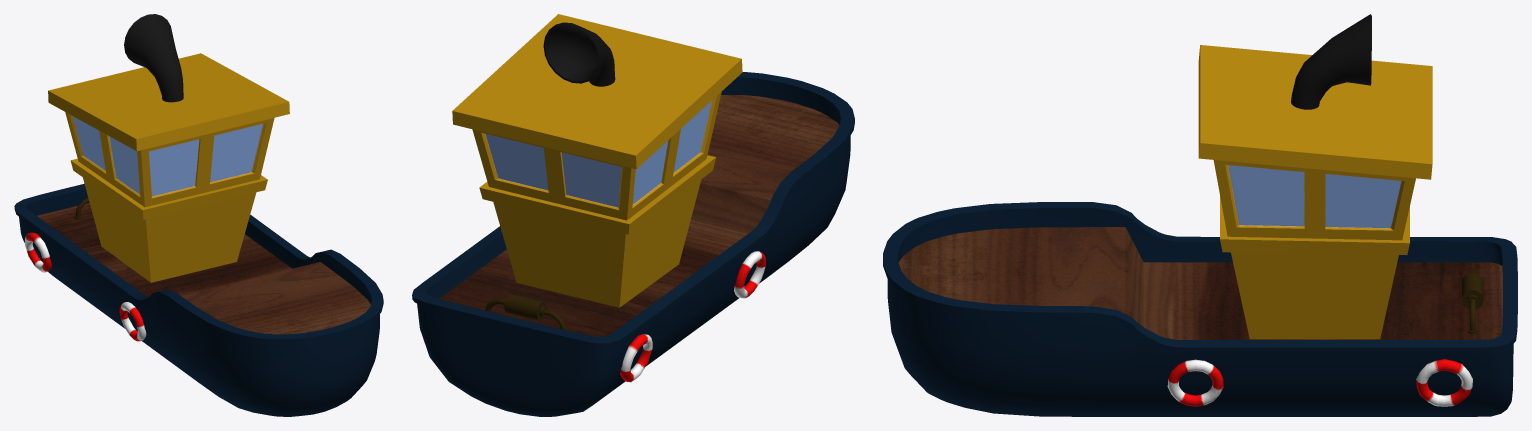
The model's file is toy_boat.glb.
3 views of the same model, side by side, from view 1: azimuth 30°, elevation 25°; view 2: azimuth 150°, elevation 25°; view 3: azimuth 270°, elevation 25° (orthographic). The views are drawn at different scales.
Visible parts, largest first — view 1: house_low, boat_low, floor_low, tube_low, circle1_low, circle_low; view 2: house_low, boat_low, floor_low, tube_low, bucks_low, circle1_low, circle_low; view 3: boat_low, house_low, floor_low, tube_low, circle1_low, circle_low, bucks_low.
Part boxes in pixels (x1,y1,x2,y2): house_low: [48, 53, 289, 282]; boat_low: [14, 183, 383, 416]; floor_low: [37, 203, 370, 334]; tube_low: [124, 14, 183, 102]; circle1_low: [24, 232, 51, 272]; circle_low: [119, 302, 146, 341]; house_low: [452, 14, 742, 307]; boat_low: [412, 72, 854, 416]; floor_low: [439, 95, 839, 336]; tube_low: [543, 22, 615, 86]; bucks_low: [485, 294, 565, 329]; circle1_low: [620, 334, 652, 382]; circle_low: [734, 251, 765, 298]; boat_low: [883, 202, 1517, 416]; house_low: [1198, 45, 1432, 339]; floor_low: [898, 227, 1502, 339]; tube_low: [1291, 14, 1371, 109]; circle1_low: [1416, 359, 1472, 406]; circle_low: [1167, 359, 1223, 406]; bucks_low: [1461, 273, 1483, 333].
Bounding box in the file's own units: 2.94 × 4.59 × 6.92.
1 material, 1 textured.
